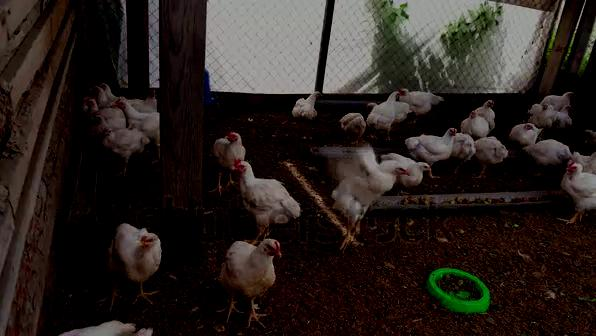Pollos: (231, 158, 302, 227), (221, 237, 282, 301), (108, 223, 161, 284), (405, 126, 456, 161), (563, 160, 596, 210), (99, 126, 146, 160), (110, 95, 159, 126), (209, 132, 249, 159), (336, 109, 368, 139), (292, 93, 325, 119), (458, 110, 490, 135), (510, 121, 546, 143)
